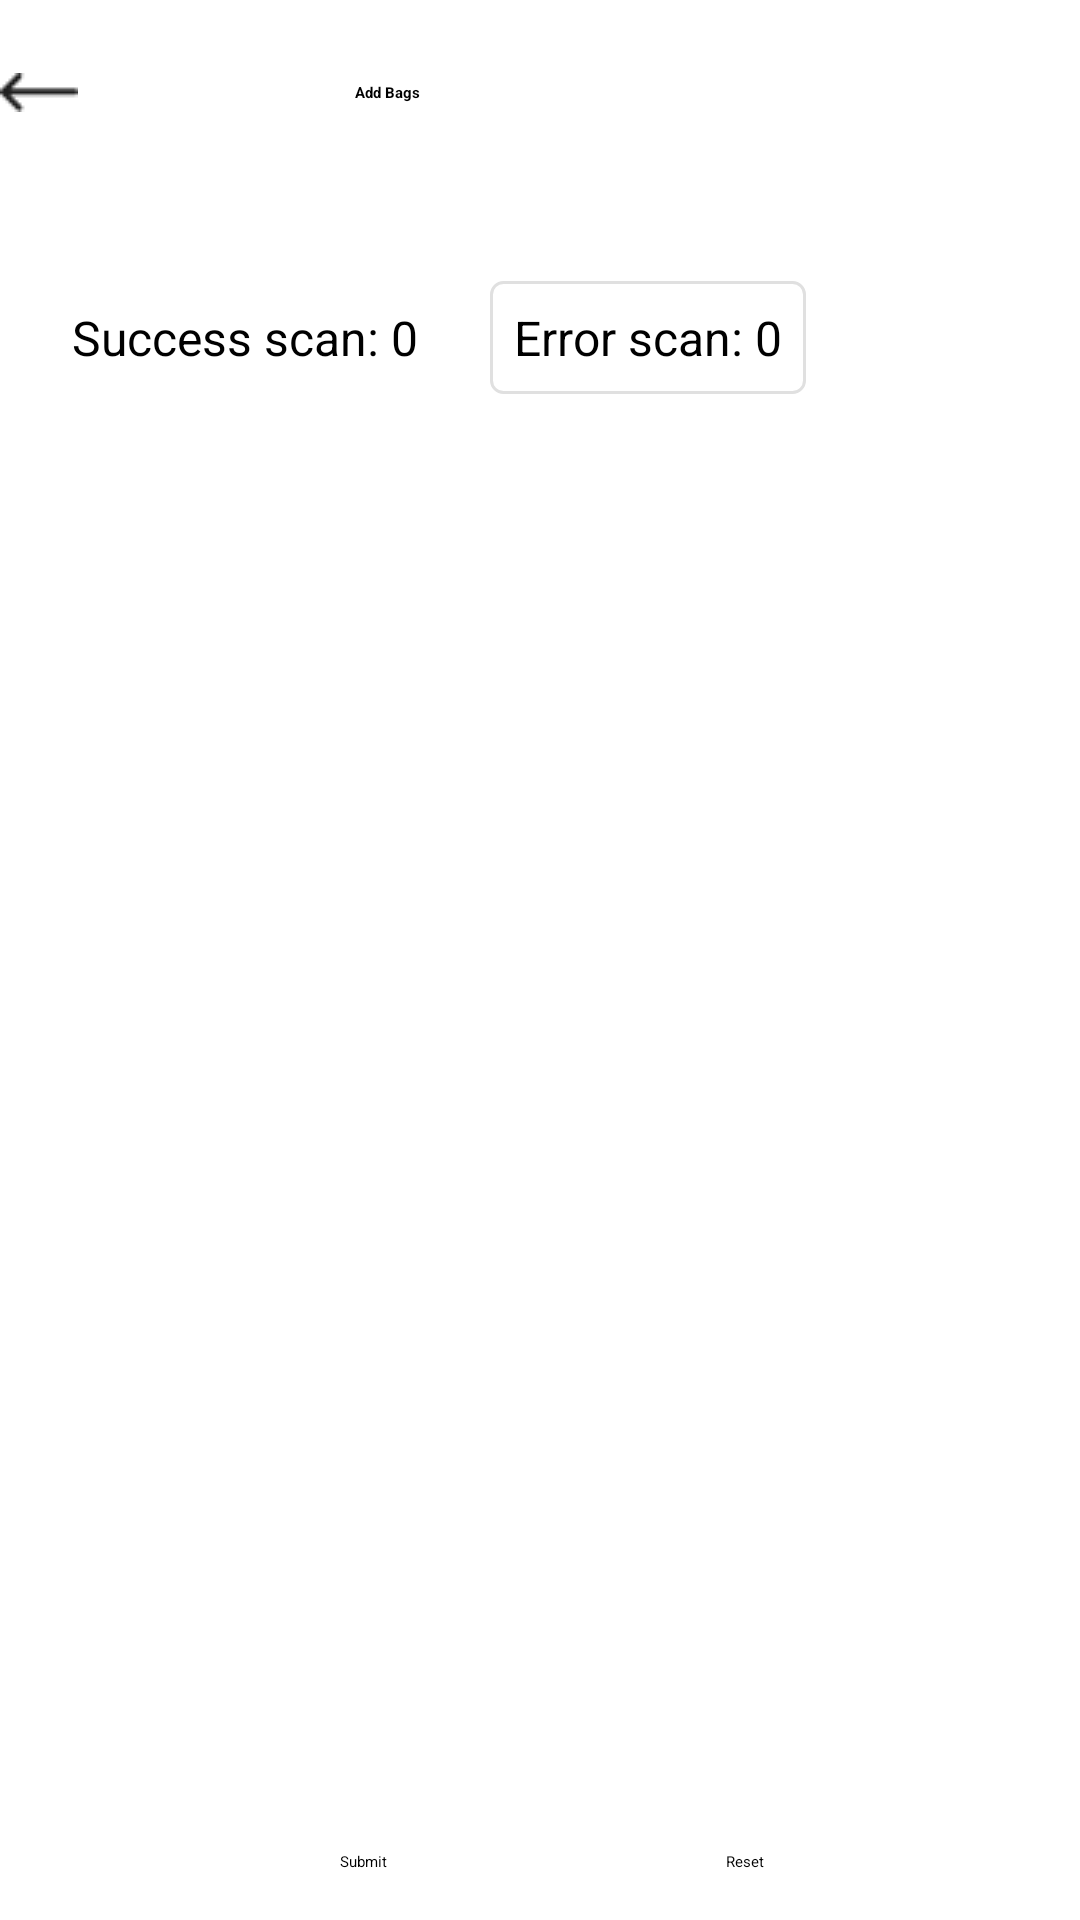

Icons on this 1080 × 1920 Android screen, each with the point to tap as point (x, y):
backicon: point (39, 92)
